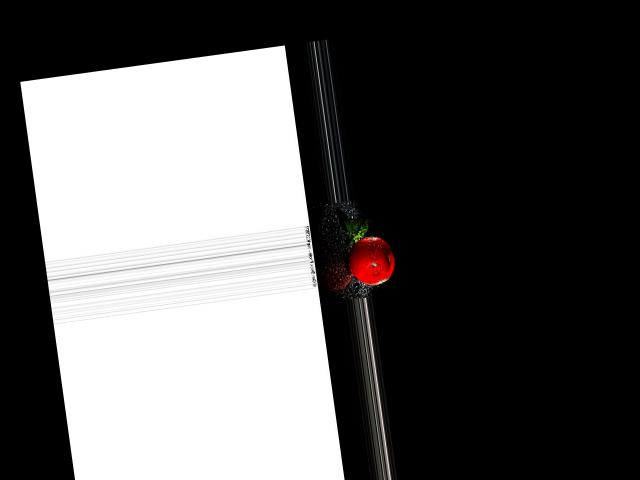tomato: (346, 233, 397, 287)
